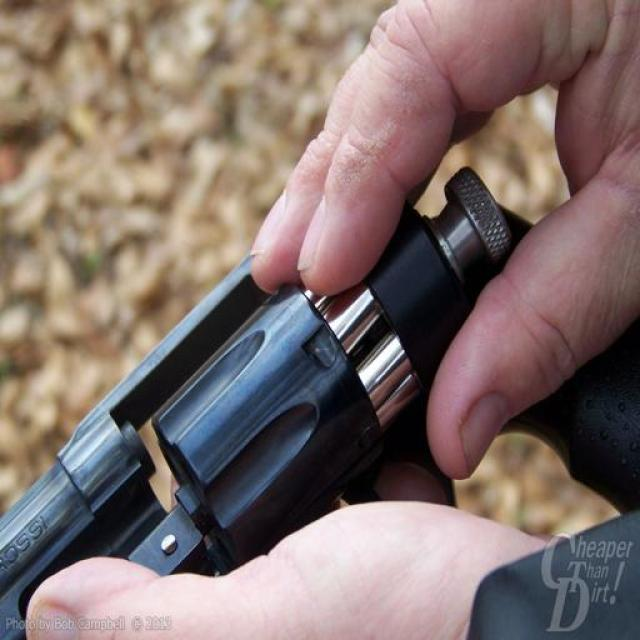pistol: (1, 165, 637, 639)
